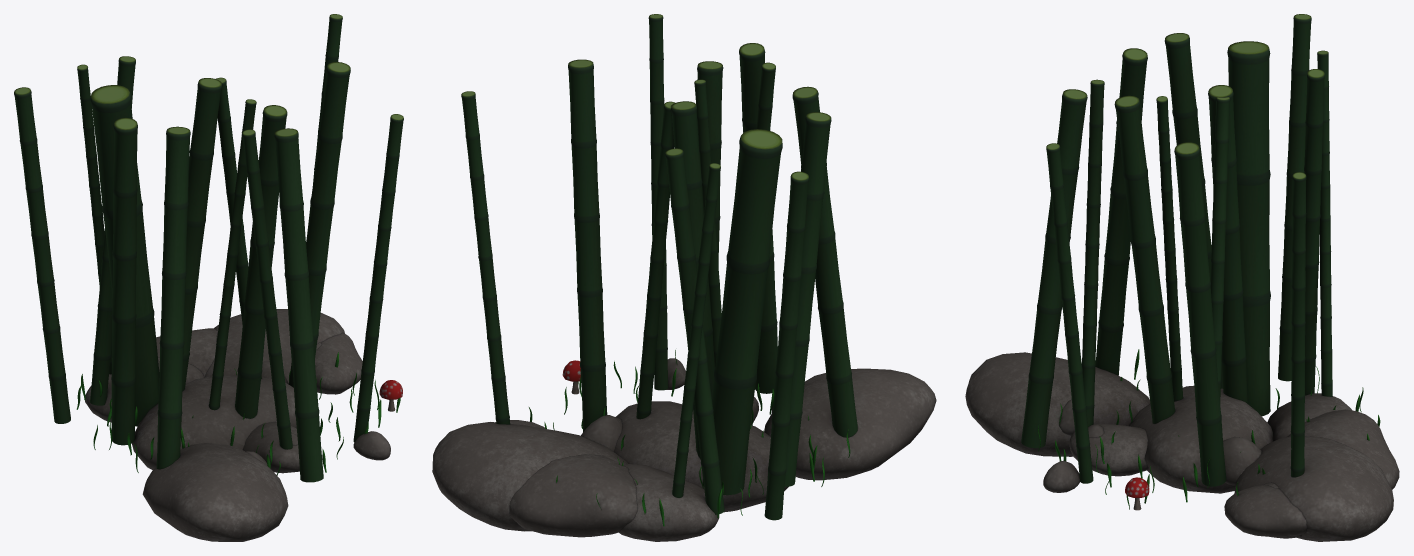
Rendered from Bamboo_Tuft.fbx.
3 renders of one model, left to right at view 1: azimuth 30°, elevation 25°; view 2: azimuth 150°, elevation 25°; view 3: azimuth 270°, elevation 25°, orthographic. The views are drawn at different scales.
Visible parts, largest first — view 1: Bamboo_Tuft_Tile.002; view 2: Bamboo_Tuft_Tile.002; view 3: Bamboo_Tuft_Tile.002.
Part boxes in pixels (x1=…): Bamboo_Tuft_Tile.002: x1=14, y1=14, x2=403, y2=541; Bamboo_Tuft_Tile.002: x1=432, y1=14, x2=936, y2=541; Bamboo_Tuft_Tile.002: x1=965, y1=14, x2=1399, y2=541.
Size of the model in its own units: 150 by 161 by 161.
